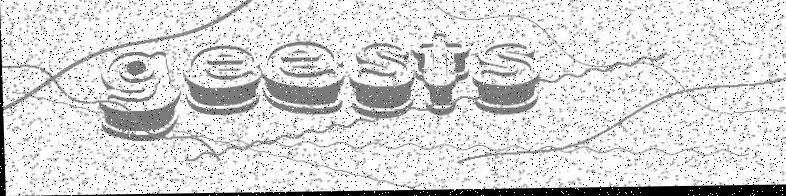e: (260, 39, 346, 120), (181, 43, 264, 117)
g: (93, 48, 183, 143)
s: (468, 38, 543, 119), (344, 39, 417, 121)
t: (412, 32, 475, 119)
